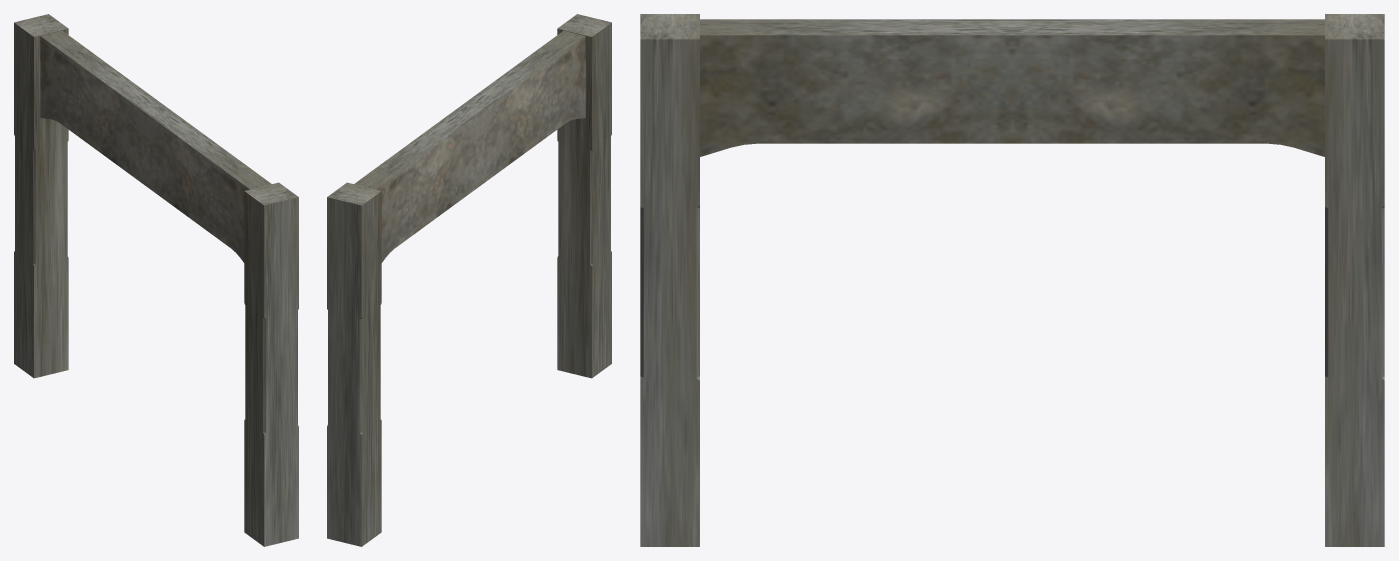
The model's file is onePillar.fbx.
The picture shows the model from 3 angles, left to right: view 1: azimuth 30°, elevation 25°; view 2: azimuth 150°, elevation 25°; view 3: azimuth 270°, elevation 25°; orthographic projection. The views are drawn at different scales.
Parts seen in each view (by area): view 1: Cube.007; view 2: Cube.007; view 3: Cube.007.
Part boxes in pixels (x1,y1,x2,y2): Cube.007: [14, 14, 298, 546]; Cube.007: [327, 14, 611, 546]; Cube.007: [640, 14, 1384, 546].
Bounding box in the file's own units: 34.82 × 327 × 435.
2 materials, 2 textured.
